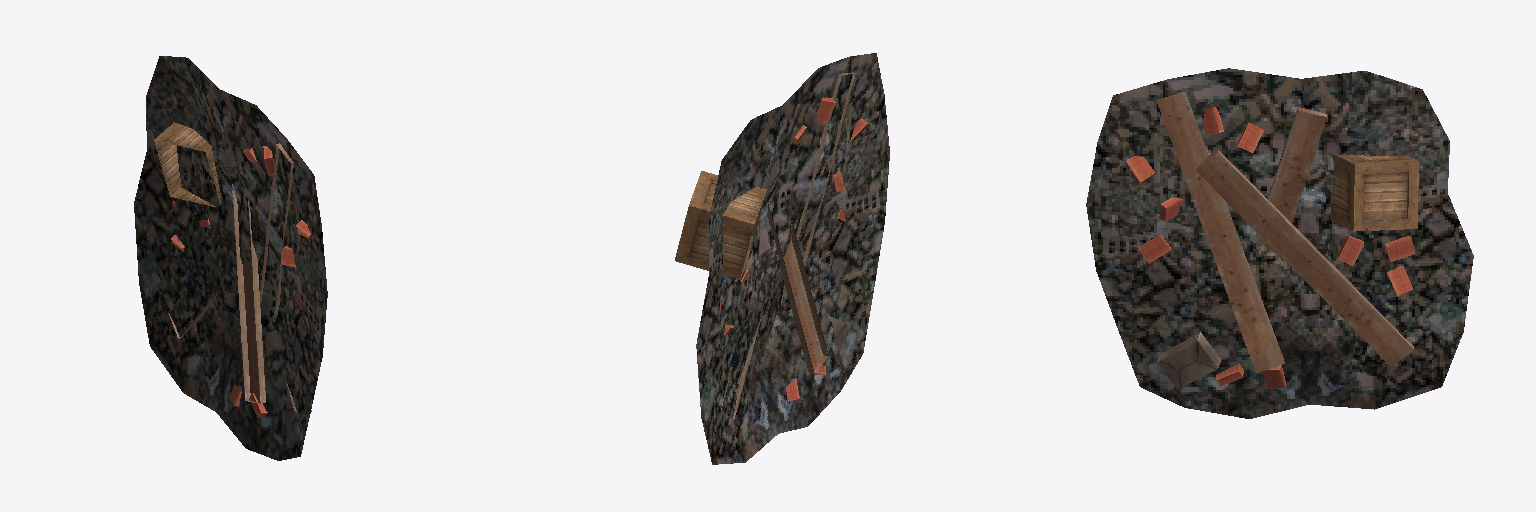
The picture shows the model from 3 angles: view 1: azimuth 30°, elevation 25°; view 2: azimuth 150°, elevation 25°; view 3: azimuth 270°, elevation 25°; orthographic projection.
Parts seen in each view (by area): view 1: trashpile; view 2: trashpile; view 3: trashpile.
Part boxes in pixels (bbox=[...]): trashpile: bbox=[134, 56, 327, 460]; trashpile: bbox=[675, 53, 889, 464]; trashpile: bbox=[1086, 68, 1473, 418].
Size of the model in its own units: 1.18 by 4.46 by 4.46.
1 materials, 1 textured.